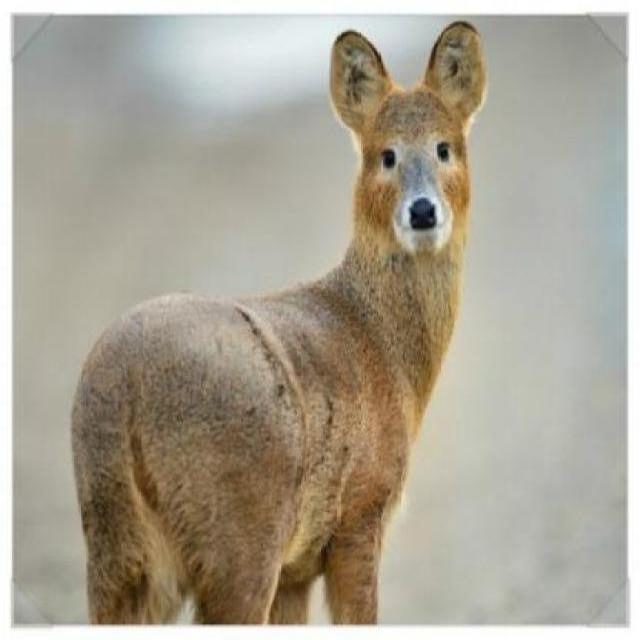deer: (53, 17, 490, 626)
